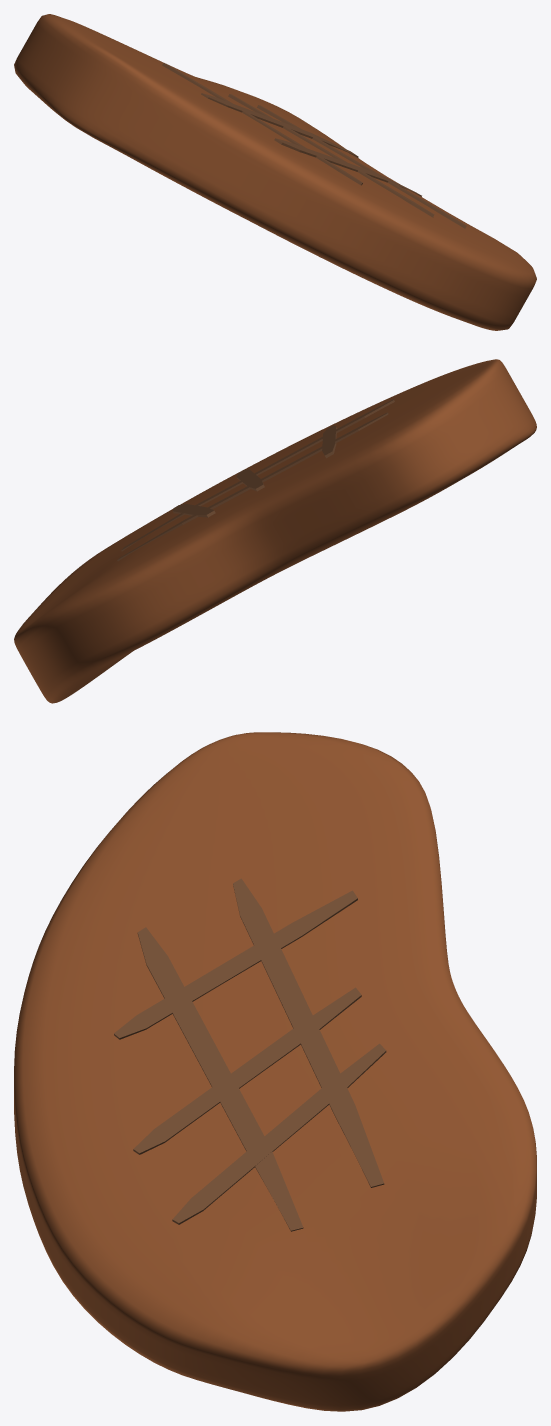
Rendered from steak_cook.fbx.
The picture shows the model from 3 angles, top to bottom: view 1: azimuth 30°, elevation 25°; view 2: azimuth 150°, elevation 25°; view 3: azimuth 270°, elevation 25°; orthographic projection. The views are drawn at different scales.
Parts seen in each view (by area): view 1: Cube.004; view 2: Cube.004; view 3: Cube.004.
Part boxes in pixels (bbox=[...]): Cube.004: bbox=[14, 14, 536, 330]; Cube.004: bbox=[14, 359, 536, 703]; Cube.004: bbox=[14, 732, 536, 1411].
Bounding box in the file's own units: 235 × 184 × 193.
